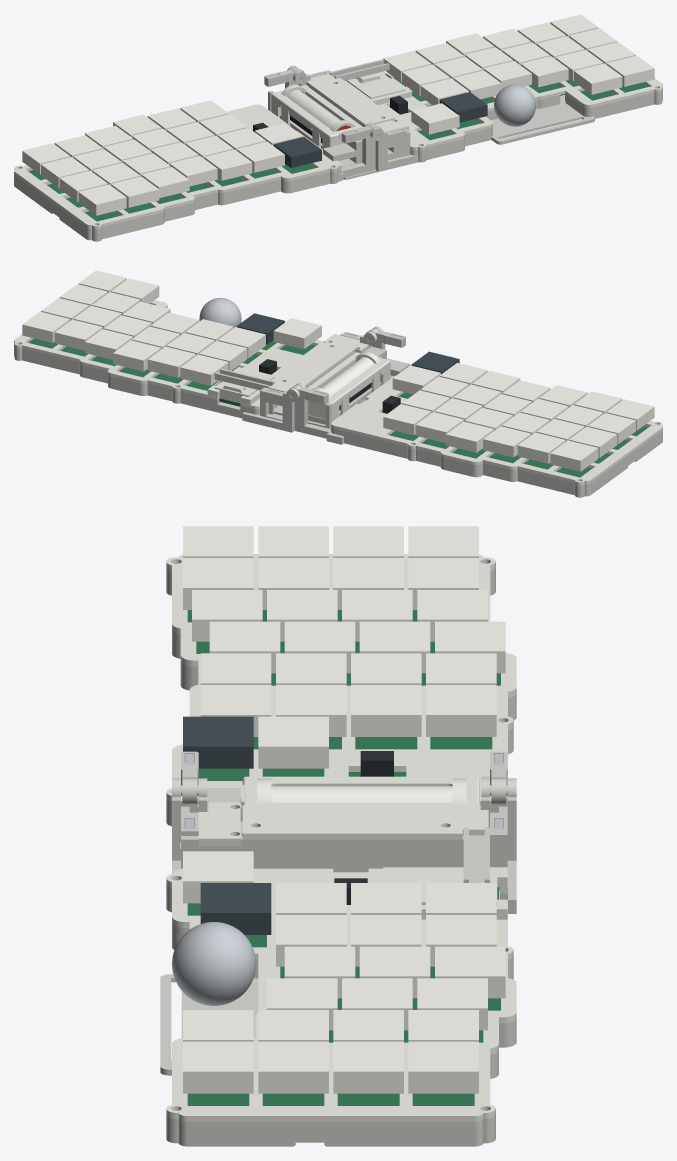
Rendered from komoro-folding-open.glb.
3 views of the same model, one above another, from view 1: azimuth 30°, elevation 25°; view 2: azimuth 150°, elevation 25°; view 3: azimuth 270°, elevation 25° (orthographic). The views are drawn at different scales.
Parts seen in each view (by area): view 1: 01_Open / right_tray, 01_Open / left_tray, 01_Open / left_plate, 01_Open / right_plate, 01_Open / battery_cap, 01_Open / power_lid, 01_Open / left_PCB_reference, 01_Open / Trackball_visual_only, 01_Open / right_PCB_reference, 01_Open / left_key_23, 01_Open / right_key_10, 01_Open / right_key_14 (+47 smaller); view 2: 01_Open / right_tray, 01_Open / left_tray, 01_Open / left_plate, 01_Open / right_plate, 01_Open / battery_cap, 01_Open / power_lid, 01_Open / right_PCB_reference, 01_Open / left_PCB_reference, 01_Open / left_key_02, 01_Open / right_key_10, 01_Open / right_key_18, 01_Open / left_key_24 (+48 smaller); view 3: 01_Open / right_tray, 01_Open / right_plate, 01_Open / left_plate, 01_Open / power_lid, 01_Open / Trackball_visual_only, 01_Open / right_PCB_reference, 01_Open / battery_cap, 01_Open / left_PCB_reference, 01_Open / left_tray, 01_Open / left_key_15, 01_Open / right_key_02, 01_Open / right_key_11 (+49 smaller).
Boxes of the visible parts, x1=… form: 01_Open / right_tray: x1=268, y1=59, x2=662, y2=171; 01_Open / left_tray: x1=14, y1=67, x2=378, y2=241; 01_Open / left_plate: x1=14, y1=104, x2=341, y2=229; 01_Open / right_plate: x1=345, y1=71, x2=662, y2=150; 01_Open / battery_cap: x1=271, y1=84, x2=363, y2=149; 01_Open / power_lid: x1=306, y1=74, x2=394, y2=126; 01_Open / left_PCB_reference: x1=28, y1=163, x2=315, y2=221; 01_Open / Trackball_visual_only: x1=494, y1=84, x2=535, y2=126; 01_Open / right_PCB_reference: x1=389, y1=77, x2=648, y2=140; 01_Open / left_key_23: x1=78, y1=184, x2=126, y2=215; 01_Open / right_key_10: x1=411, y1=103, x2=459, y2=134; 01_Open / right_key_14: x1=574, y1=63, x2=622, y2=94; 01_Open / right_tray: x1=14, y1=313, x2=393, y2=432; 01_Open / left_tray: x1=292, y1=328, x2=662, y2=497; 01_Open / left_plate: x1=331, y1=364, x2=662, y2=485; 01_Open / right_plate: x1=14, y1=300, x2=323, y2=409; 01_Open / battery_cap: x1=307, y1=352, x2=390, y2=421; 01_Open / power_lid: x1=269, y1=341, x2=355, y2=392; 01_Open / right_PCB_reference: x1=28, y1=338, x2=315, y2=406; 01_Open / left_PCB_reference: x1=382, y1=392, x2=648, y2=477; 01_Open / left_key_02: x1=550, y1=440, x2=598, y2=471; 01_Open / right_key_10: x1=273, y1=318, x2=321, y2=349; 01_Open / right_key_18: x1=180, y1=354, x2=228, y2=385; 01_Open / left_key_24: x1=446, y1=421, x2=494, y2=452; 01_Open / right_tray: x1=160, y1=776, x2=516, y2=1146; 01_Open / right_plate: x1=166, y1=867, x2=516, y2=1121; 01_Open / left_plate: x1=166, y1=554, x2=516, y2=807; 01_Open / power_lid: x1=242, y1=805, x2=488, y2=839; 01_Open / Trackball_visual_only: x1=172, y1=922, x2=255, y2=1005; 01_Open / right_PCB_reference: x1=187, y1=887, x2=500, y2=1105; 01_Open / battery_cap: x1=241, y1=776, x2=479, y2=810; 01_Open / left_PCB_reference: x1=187, y1=610, x2=500, y2=803; 01_Open / left_tray: x1=166, y1=568, x2=516, y2=826; 01_Open / left_key_15: x1=258, y1=716, x2=328, y2=768; 01_Open / right_key_02: x1=258, y1=1041, x2=328, y2=1093; 01_Open / right_key_11: x1=183, y1=1041, x2=253, y2=1093.
Size of the model in its own units: 0.3012 by 0.0227 by 0.0808.
